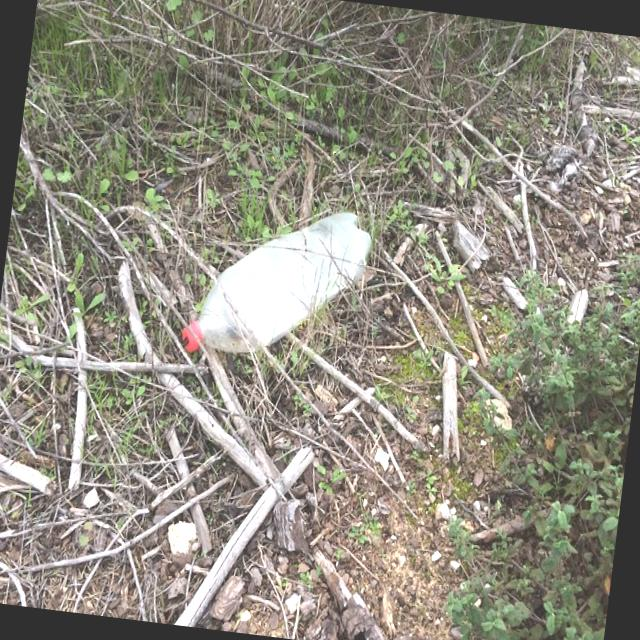Recycle: (180, 194, 375, 372)
